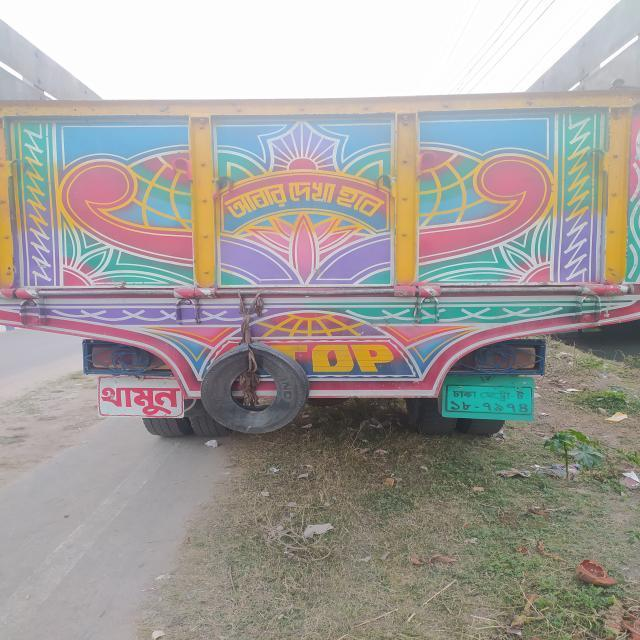numberplate: (439, 376, 534, 421)
